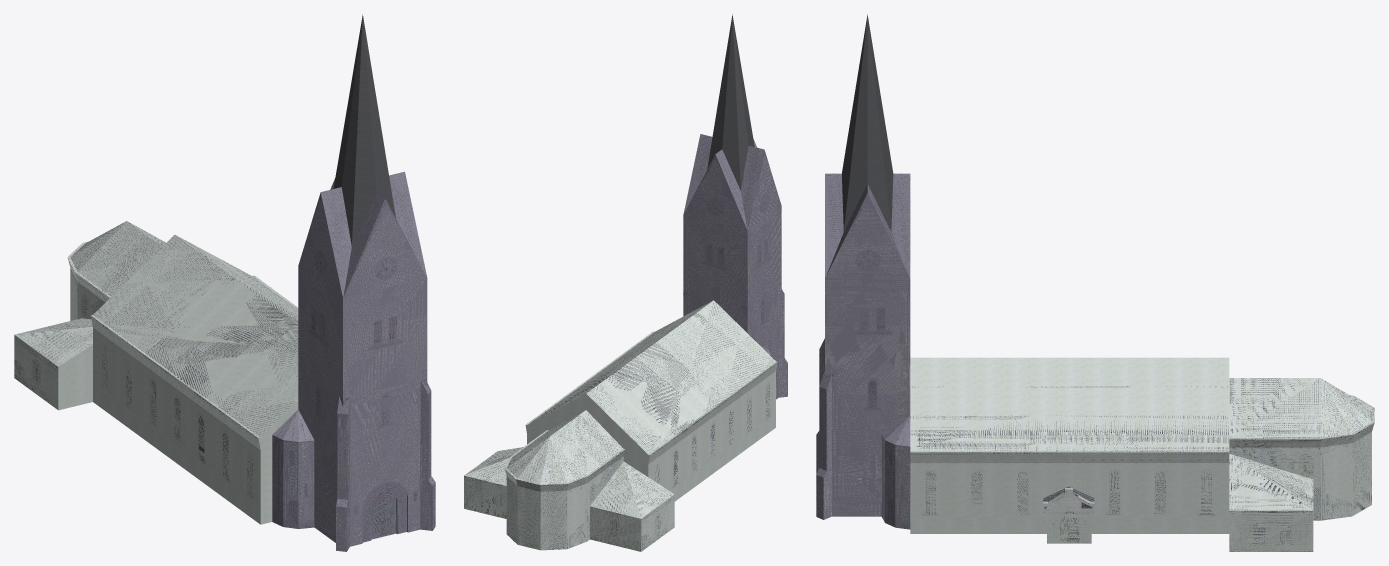
File: Church2.fbx
3 renders of one model, left to right at view 1: azimuth 30°, elevation 25°; view 2: azimuth 150°, elevation 25°; view 3: azimuth 270°, elevation 25°, orthographic. The views are drawn at different scales.
Parts seen in each view (by area): view 1: Group3, Group1, Group2, Component_1_1, Component_2_2, Component_2_1; view 2: Group3, Group1, Group2, Component_2_2; view 3: Group3, Group1, Group2, Component_1_2, Component_2_1.
Boxes of the visible parts, x1=… form: Group3: x1=14, y1=221, x2=298, y2=524; Group1: x1=298, y1=171, x2=427, y2=546; Group2: x1=333, y1=14, x2=395, y2=246; Component_1_1: x1=272, y1=409, x2=314, y2=528; Component_2_2: x1=336, y1=396, x2=349, y2=551; Component_2_1: x1=420, y1=380, x2=435, y2=530; Group3: x1=464, y1=300, x2=777, y2=551; Group1: x1=683, y1=134, x2=781, y2=399; Group2: x1=707, y1=14, x2=754, y2=190; Component_2_2: x1=778, y1=284, x2=787, y2=397; Group3: x1=910, y1=357, x2=1374, y2=551; Group1: x1=825, y1=173, x2=910, y2=516; Group2: x1=842, y1=14, x2=893, y2=231; Component_1_2: x1=881, y1=415, x2=910, y2=529; Component_2_1: x1=816, y1=371, x2=831, y2=519.
Size of the model in its own units: 20.71 by 43.18 by 45.24.
